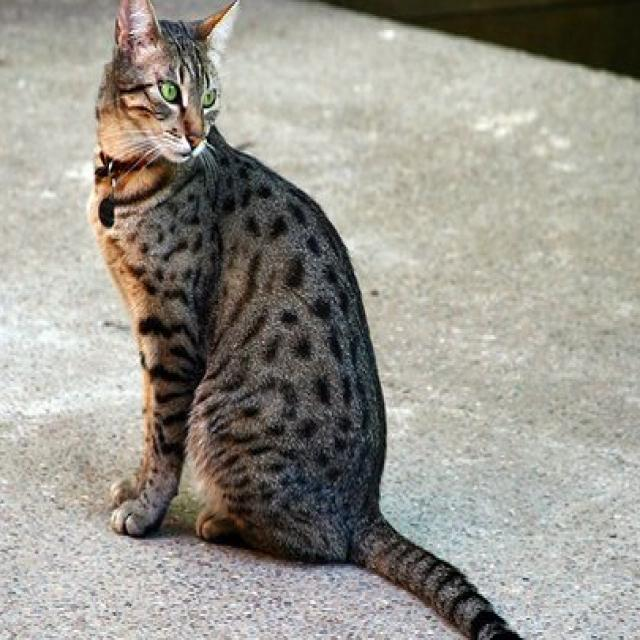Egyptian Mau: (84, 0, 552, 640)
